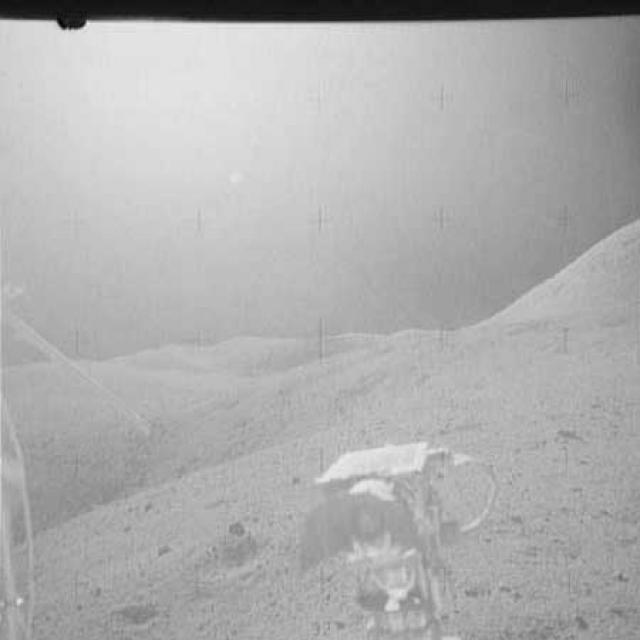artifact: (0, 280, 157, 639), (291, 440, 505, 638)
crater: (179, 521, 272, 578)
